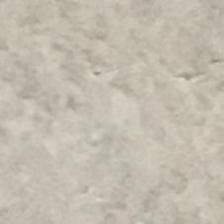Non_Crack: (14, 7, 215, 224)
